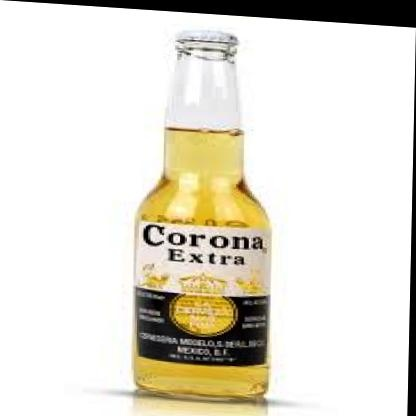trash: (134, 32, 270, 398)
